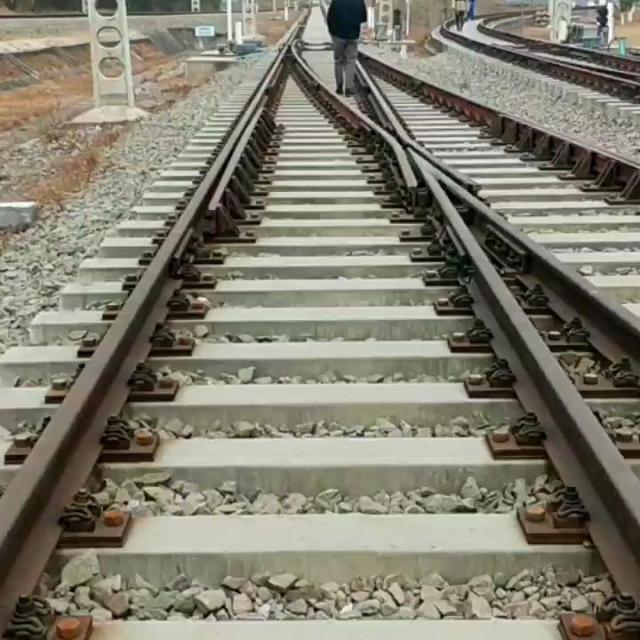danger: (322, 0, 380, 98), (450, 0, 482, 39)
rail: (0, 20, 300, 637), (407, 147, 640, 600), (421, 158, 640, 370), (362, 52, 640, 202), (294, 41, 419, 188), (440, 11, 640, 97), (355, 60, 480, 190), (476, 13, 640, 71)
